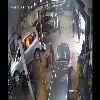fire: (21, 32, 38, 50)
